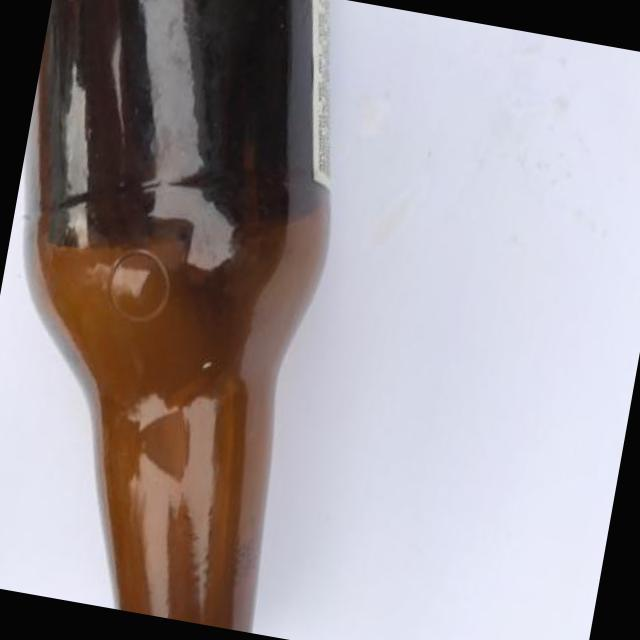chai_thuy_tinh: (23, 0, 327, 632)
